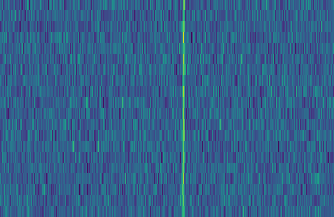signal: (178, 0, 187, 217)
